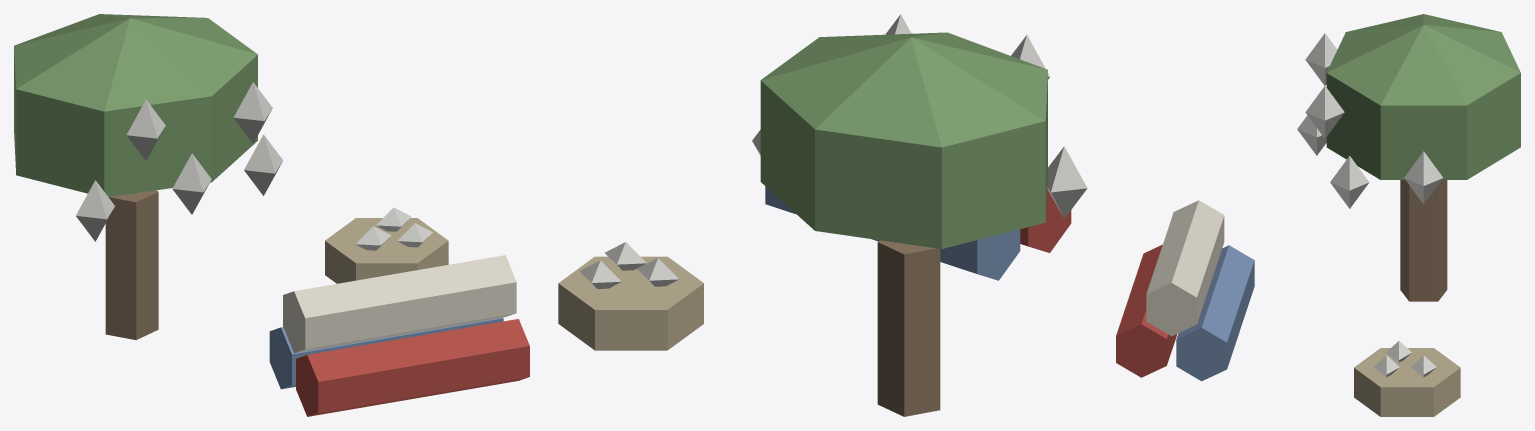
File: silk.glb
The picture shows the model from 3 angles, left to right: view 1: azimuth 30°, elevation 25°; view 2: azimuth 150°, elevation 25°; view 3: azimuth 270°, elevation 25°; orthographic projection. The views are drawn at different scales.
Visible parts, largest first — view 1: LOD0; view 2: LOD0; view 3: LOD0.
Boxes of the visible parts, <box> form: LOD0: <box>14,14,529,416</box>; LOD0: <box>558,14,1087,416</box>; LOD0: <box>1116,14,1520,416</box>.
Size of what is drawn, in the model's own units: 0.5938 by 0.432 by 0.5909.
